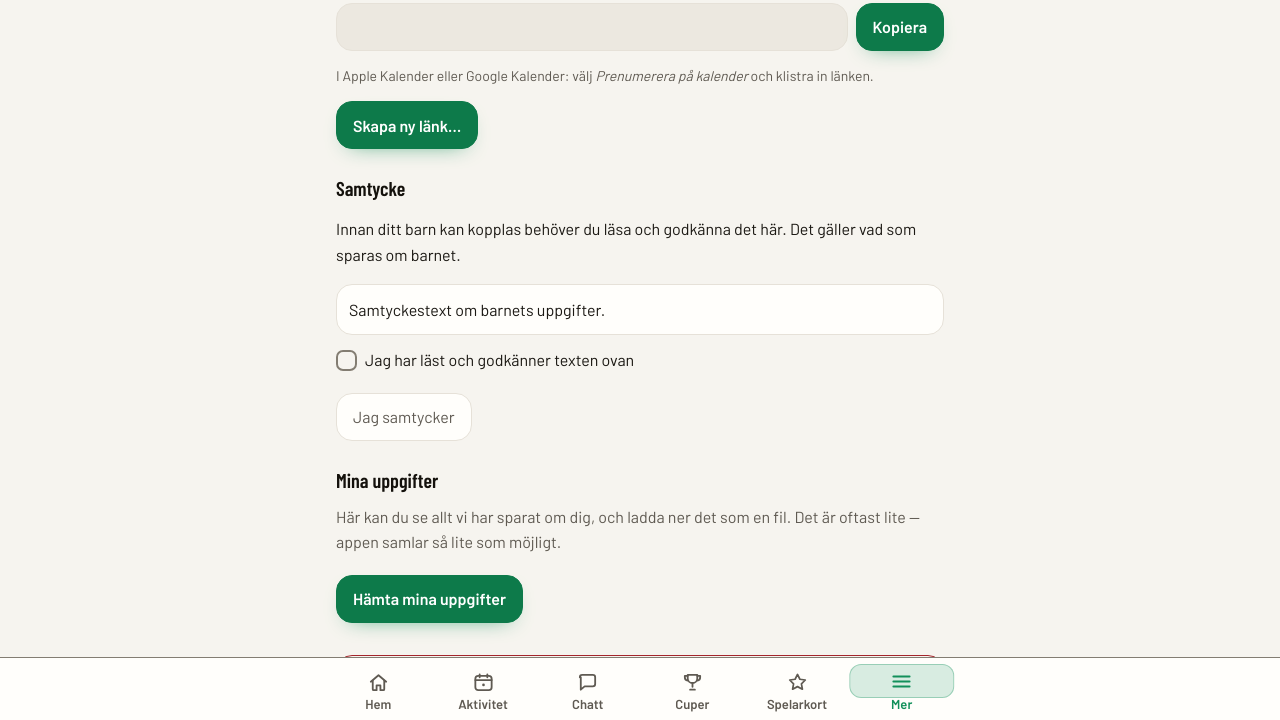
Test: Samtycke på Mitt konto › en förälder som inte samtyckt kan läsa texten och samtycka
(page scrolled)
Check: the text "Samtyckestext om barnets uppgifter." is shown, box 336,284 -> 944,335
Check: the button "Jag samtycker" is disabled, box 336,393 -> 472,441
Click the checkbox labelled "Jag har läst och godkänner texten ovan" at (346,360), box 336,350 -> 357,370
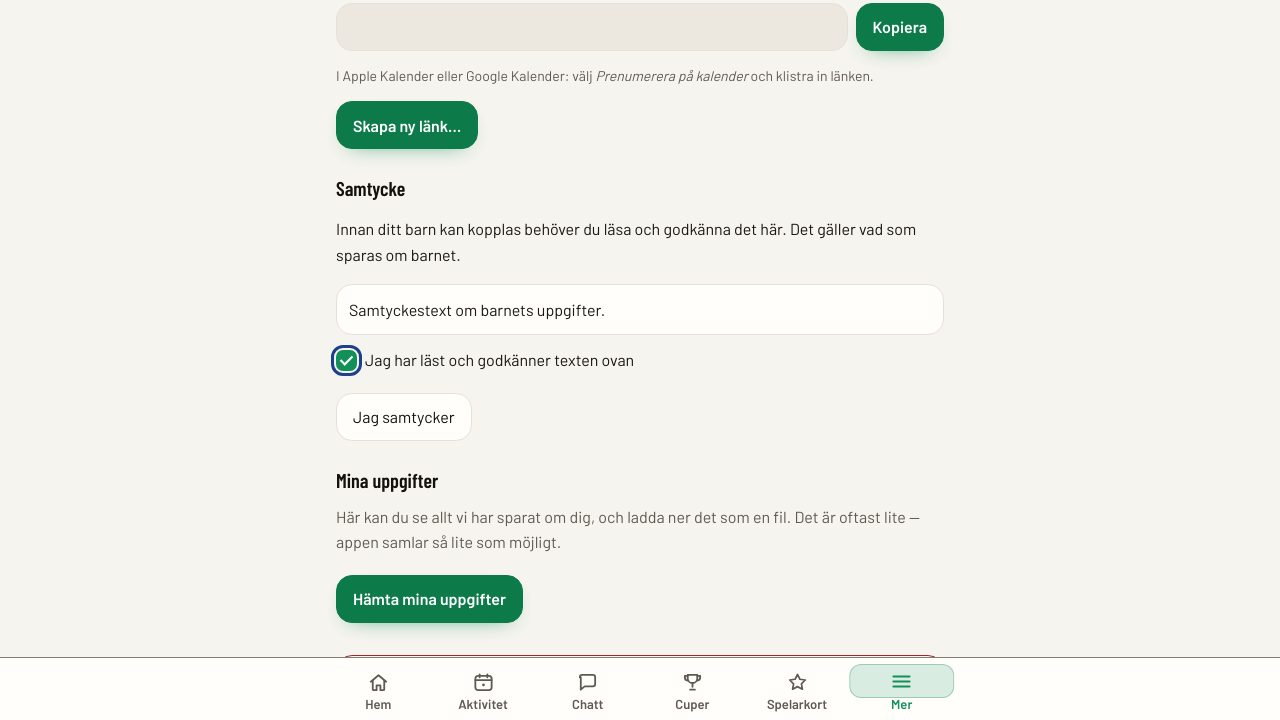
Check: the button "Jag samtycker" is enabled
Click the button "Jag samtycker" at (404,417), box 336,393 -> 472,441
(page scrolled)
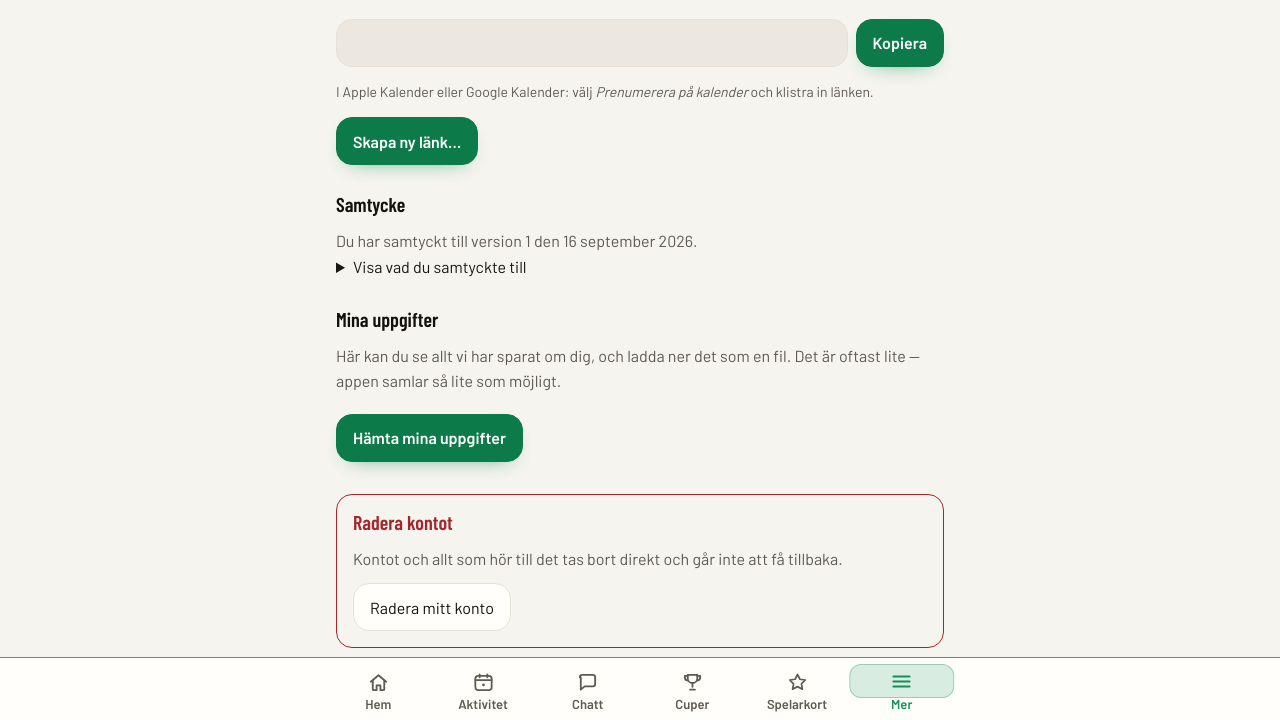
Check: the text "Du har samtyckt till version 1 den 16 september 2026." is shown, box 336,232 -> 698,250
